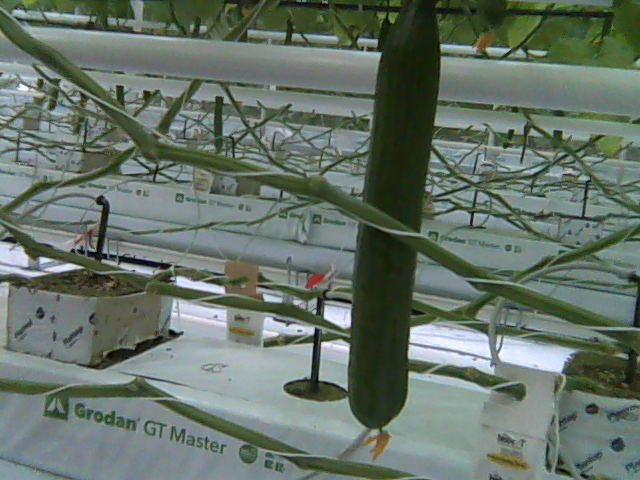concombre: (345, 1, 443, 462)
